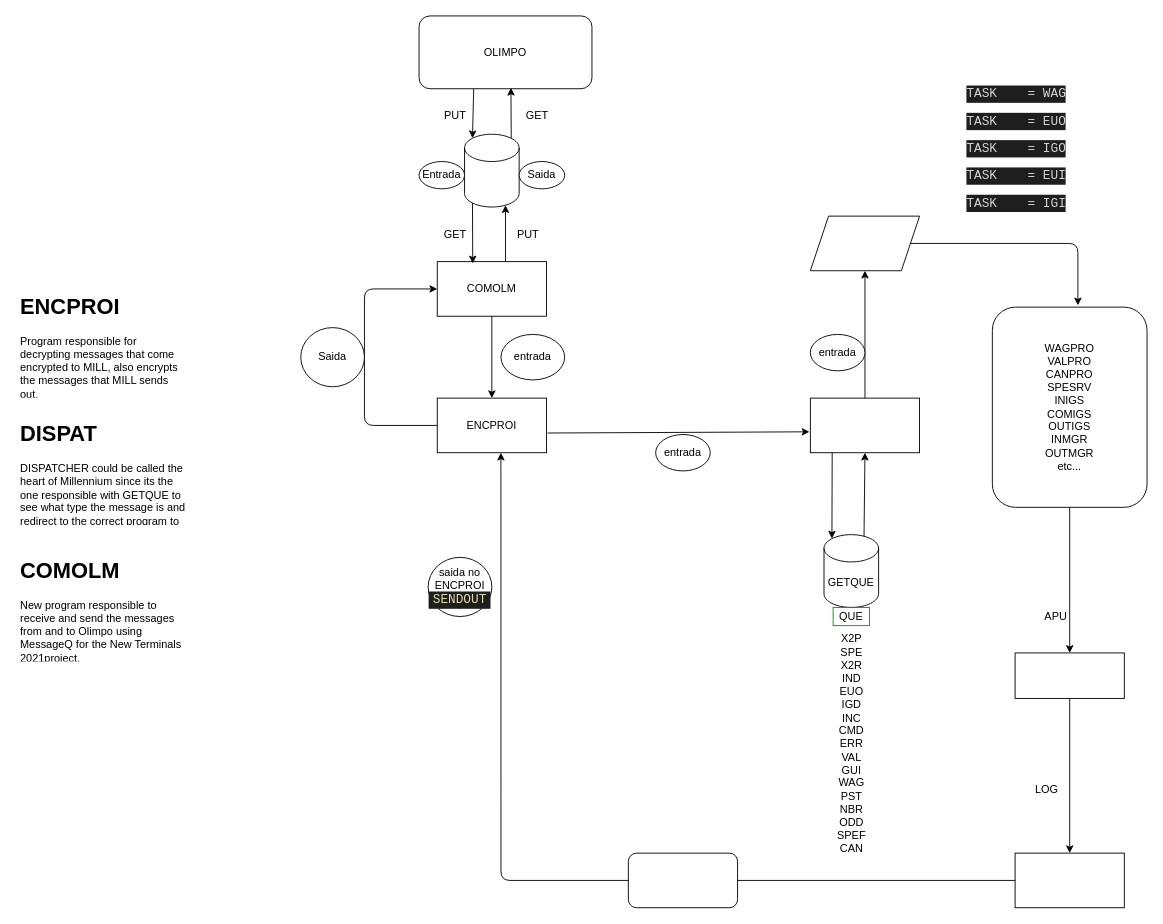
The diagram is 1163 pixels wide and 924 high, and some of its shapes have lost their labels. The shapes that lost their labels are listed below. From the top down, each one's centre as x and y in pixels, then its label:
At pixel 491 170: "MessageQ".
At pixel 864 243: "APP QUEUE".
At pixel 864 425: "DISPAT".
At pixel 1069 675: "APULOG".
At pixel 682 880: "LOGOUT".
At pixel 1069 880: "LOGGER".
